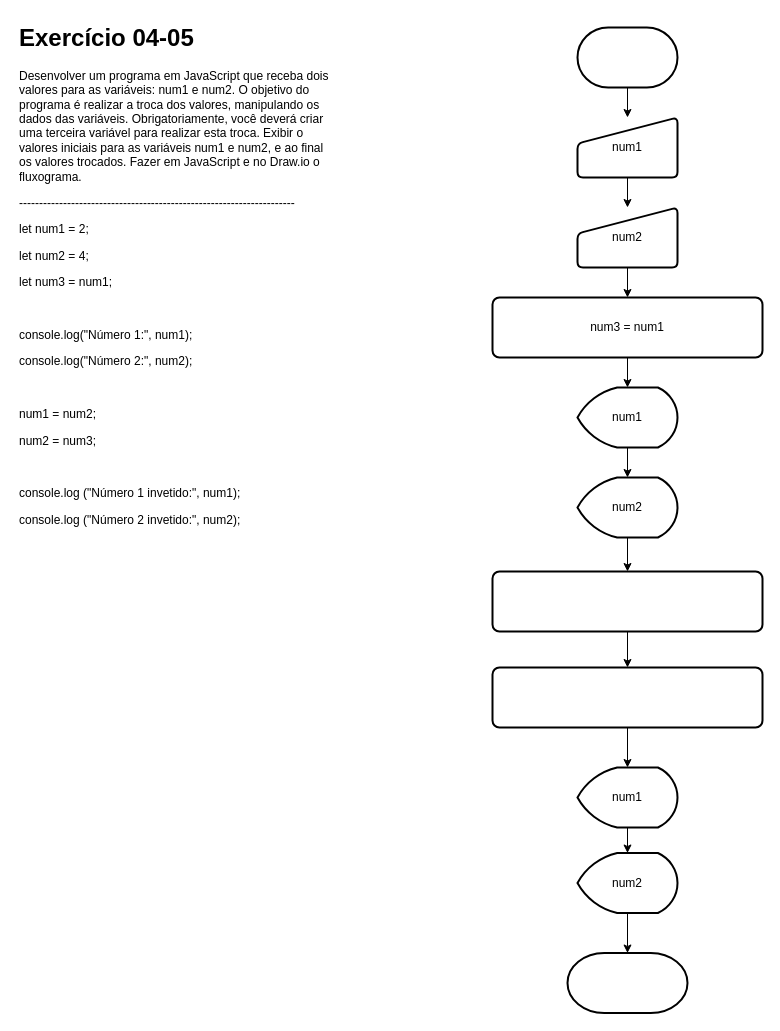
The diagram is 780 pixels wide and 1031 high, and some of its shapes have lost their labels. Each missing label, with the centre of its shape:
"FIM_ALGORITMO" goes at pixel 627 983.
"INÍCIO" goes at pixel 627 57.
"num1 = num2" goes at pixel 627 601.
"num2 = num3" goes at pixel 627 697.
